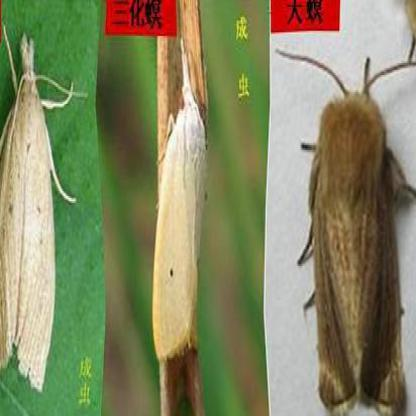stem-borer: (293, 47, 416, 416), (0, 26, 79, 400), (150, 42, 210, 366)
